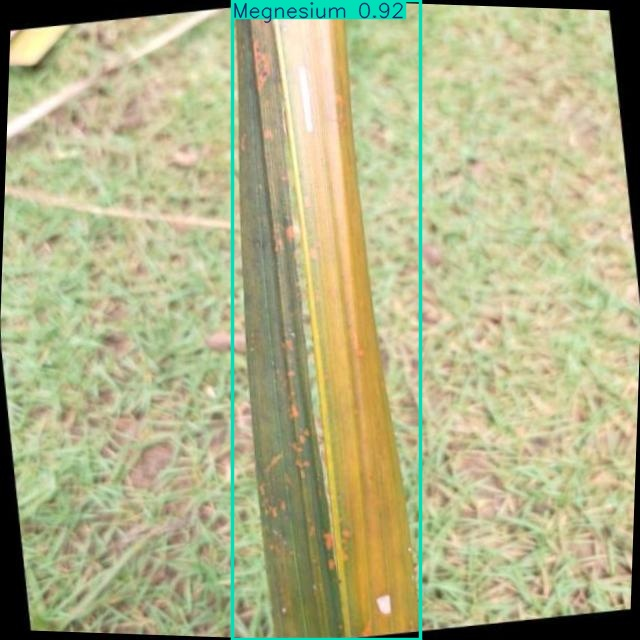Megnesium: (232, 0, 420, 639)
